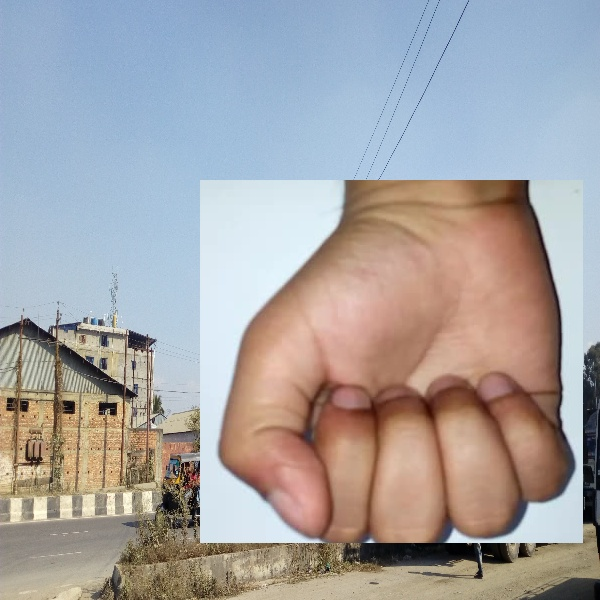A: (180, 180, 536, 528)
